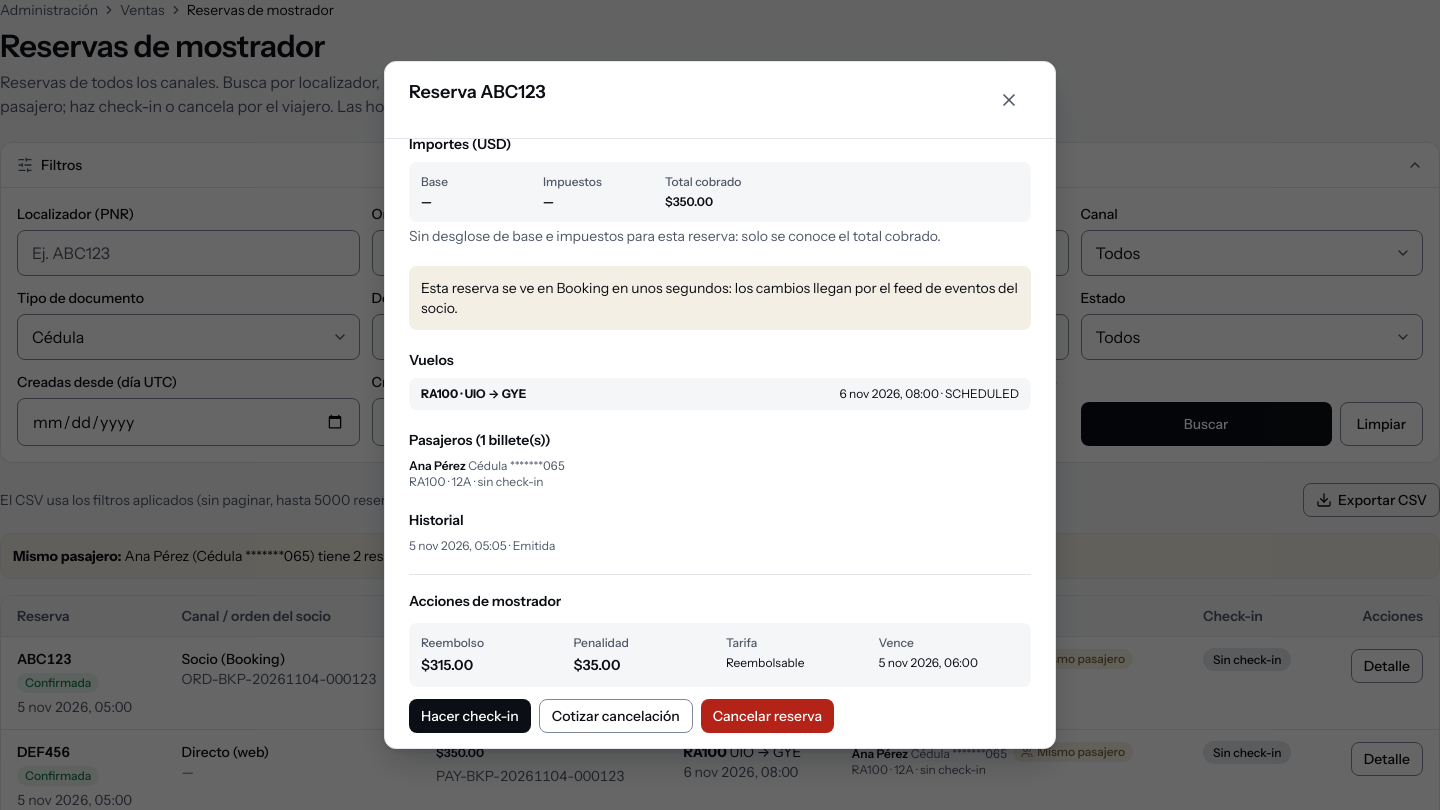
Test case: AdminReservationsPage › quotes, then cancels with the quote id and a fresh Idempotency-Key
Earlier steps of the test are not shown.
(page scrolled)
Check: the text "Reembolsable" is shown, box [726,655,804,670]
Click the button "Cancelar reserva": (768, 716) [701,699,834,733]
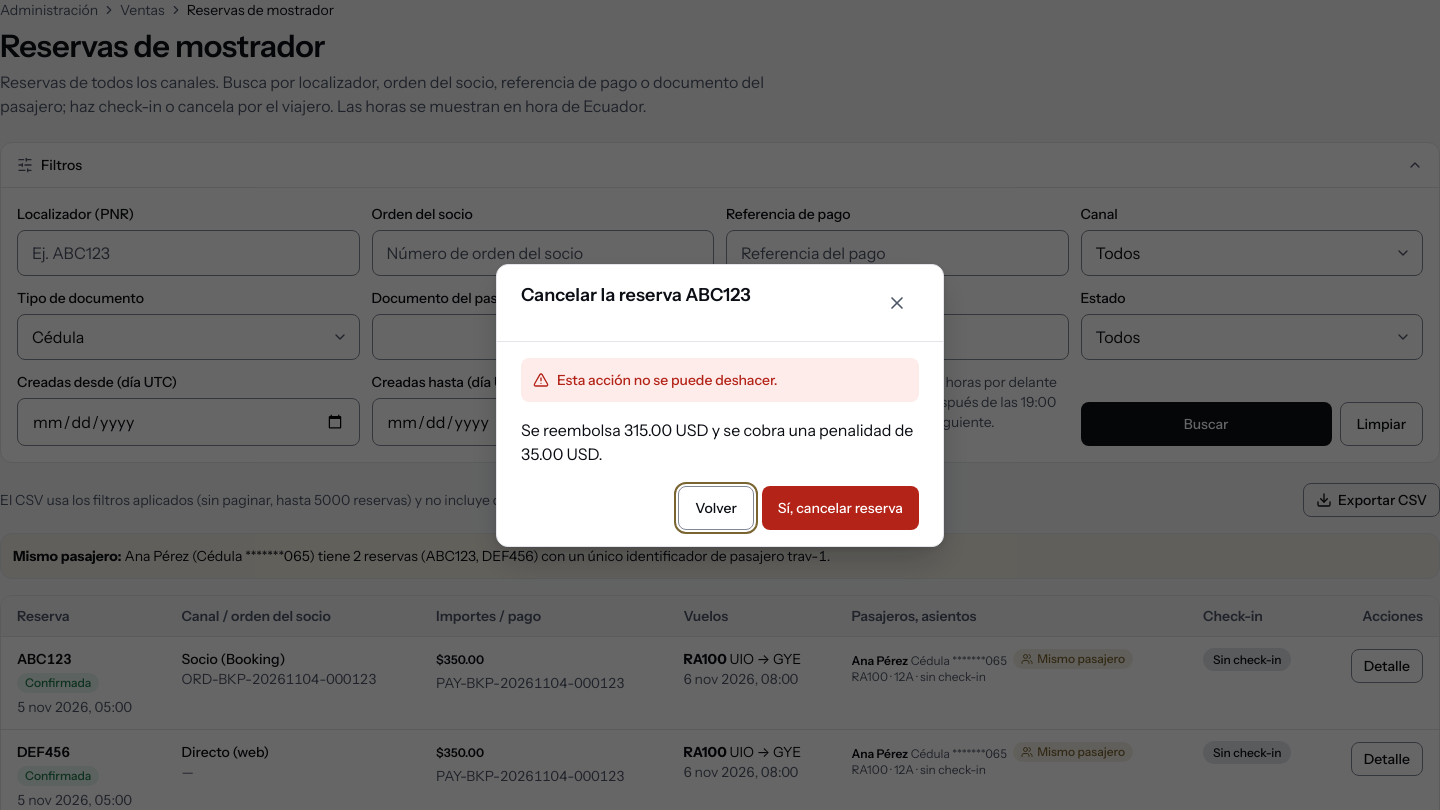
Click the button "Sí, cancelar reserva": (840, 508) [762,486,919,530]
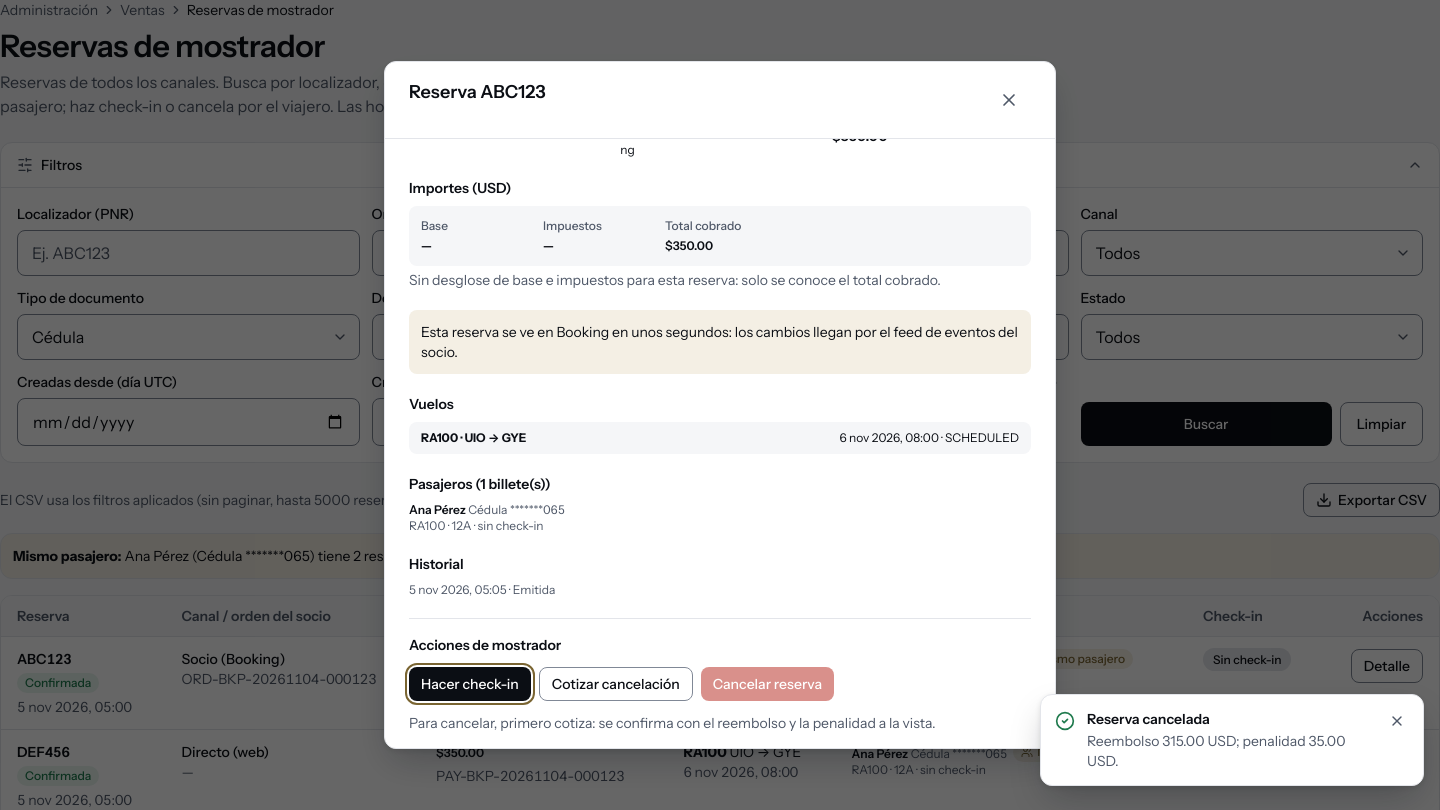
Check: the text "Reserva cancelada" is shown, box [1086,709,1210,728]
